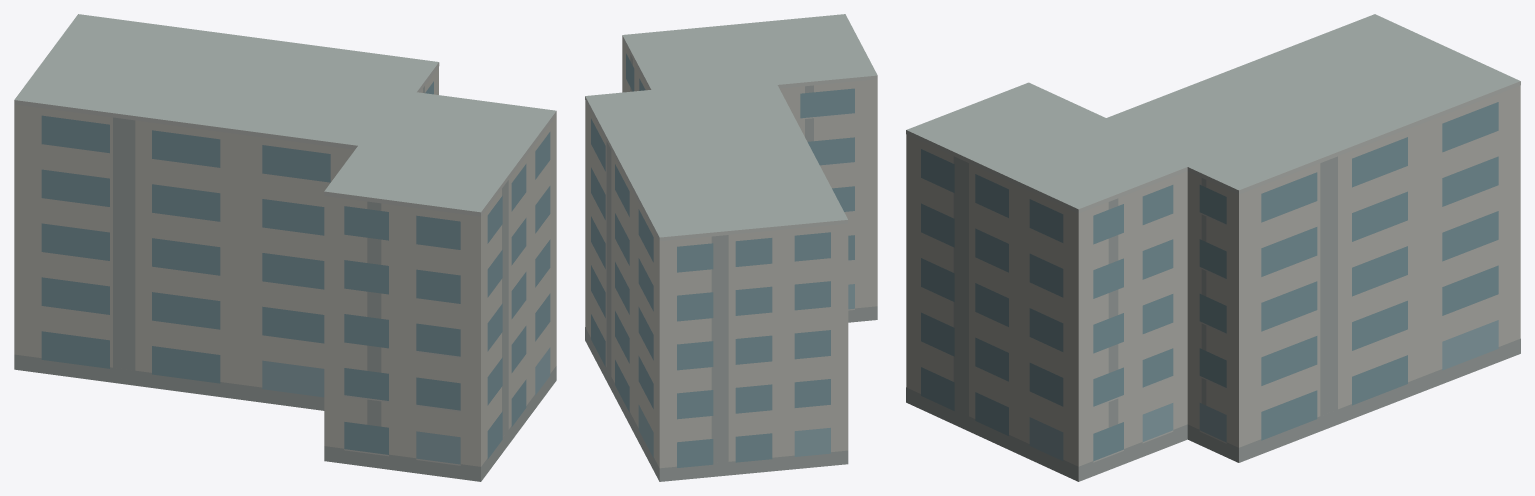
The model's file is residential-dbcd13fe-dbb1-42f9-b8e7-9fbe3cdb3f97.glb.
The picture shows the model from 3 angles, left to right: view 1: azimuth 30°, elevation 25°; view 2: azimuth 150°, elevation 25°; view 3: azimuth 270°, elevation 25°; orthographic projection. The views are drawn at different scales.
Parts seen in each view (by area): view 1: residential-dbcd13fe-dbb1-42f9-b8e7-9fbe3cdb3f97.tmp; view 2: residential-dbcd13fe-dbb1-42f9-b8e7-9fbe3cdb3f97.tmp; view 3: residential-dbcd13fe-dbb1-42f9-b8e7-9fbe3cdb3f97.tmp.
Boxes of the visible parts, left/top/right/bottom form: residential-dbcd13fe-dbb1-42f9-b8e7-9fbe3cdb3f97.tmp: left=14, top=14, right=556, bottom=481; residential-dbcd13fe-dbb1-42f9-b8e7-9fbe3cdb3f97.tmp: left=585, top=14, right=877, bottom=481; residential-dbcd13fe-dbb1-42f9-b8e7-9fbe3cdb3f97.tmp: left=906, top=14, right=1520, bottom=481.
Size of the model in its own units: 23.44 by 15.25 by 31.17.
